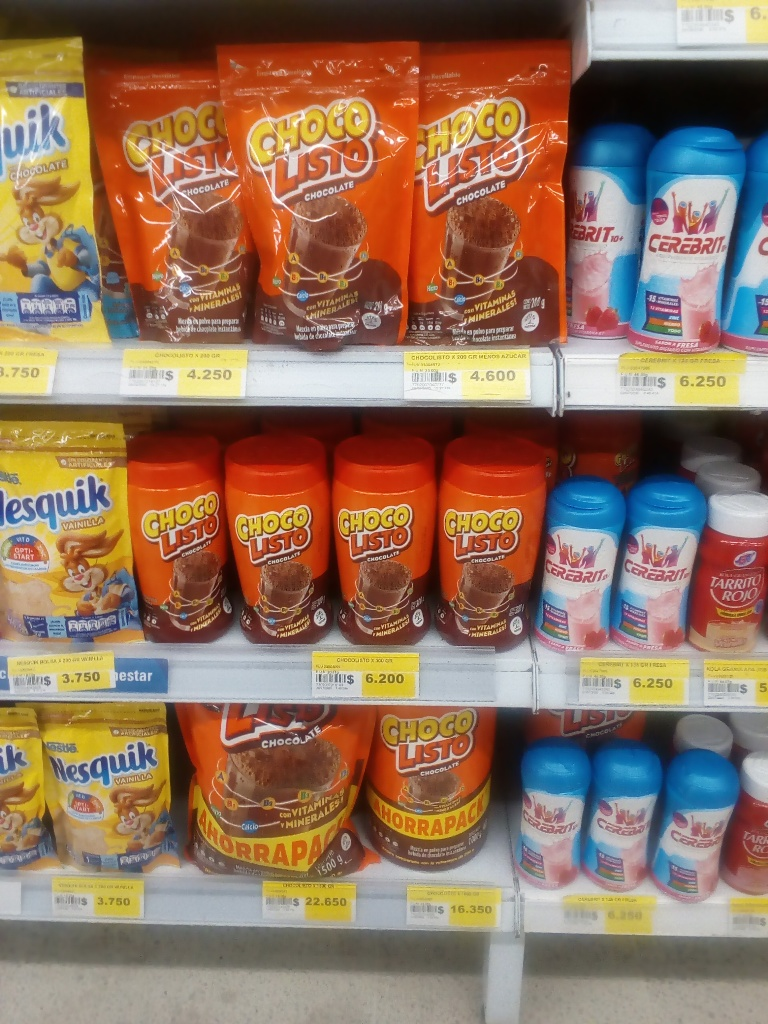COL0170103TRR00100: (363, 696, 499, 872)
